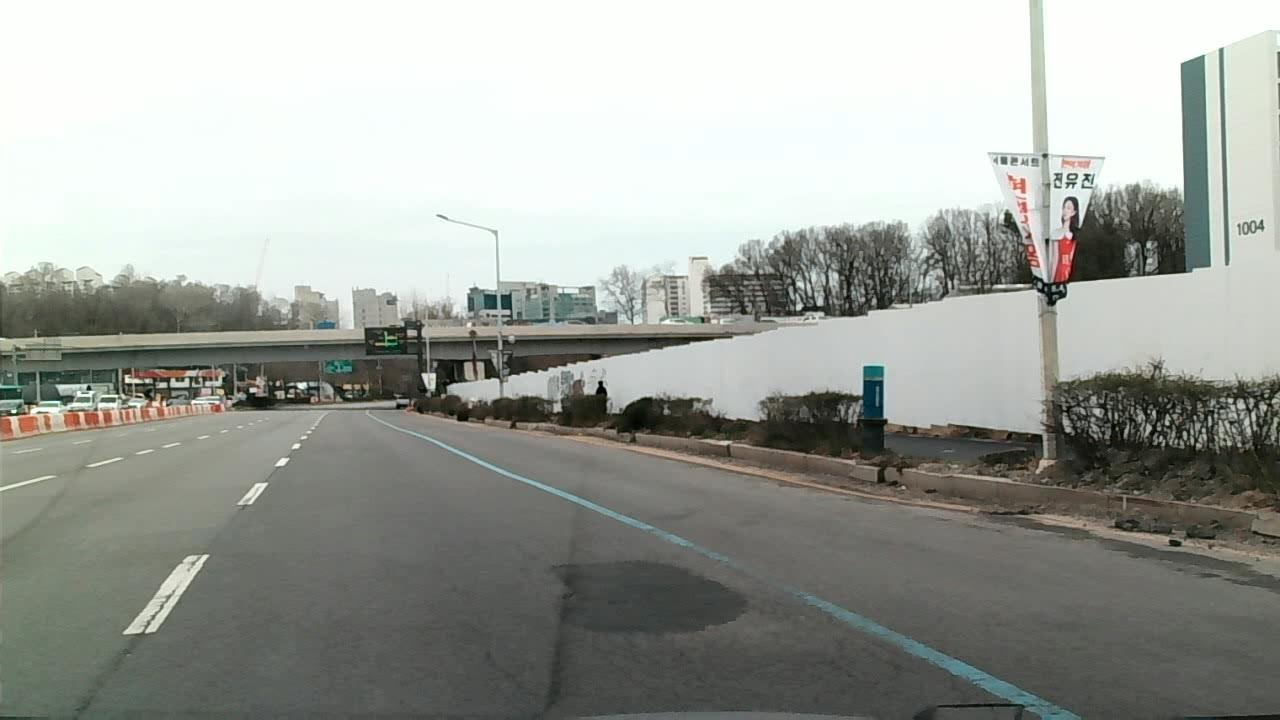stone: (1184, 523, 1217, 540), (1112, 516, 1142, 533), (1150, 522, 1173, 535), (1167, 538, 1183, 548)
vcrack: (63, 635, 141, 718), (138, 588, 175, 631), (261, 466, 279, 483), (286, 450, 294, 457)
